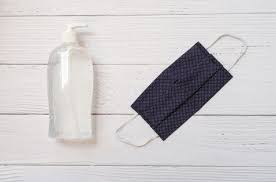mask: (108, 24, 253, 158)
